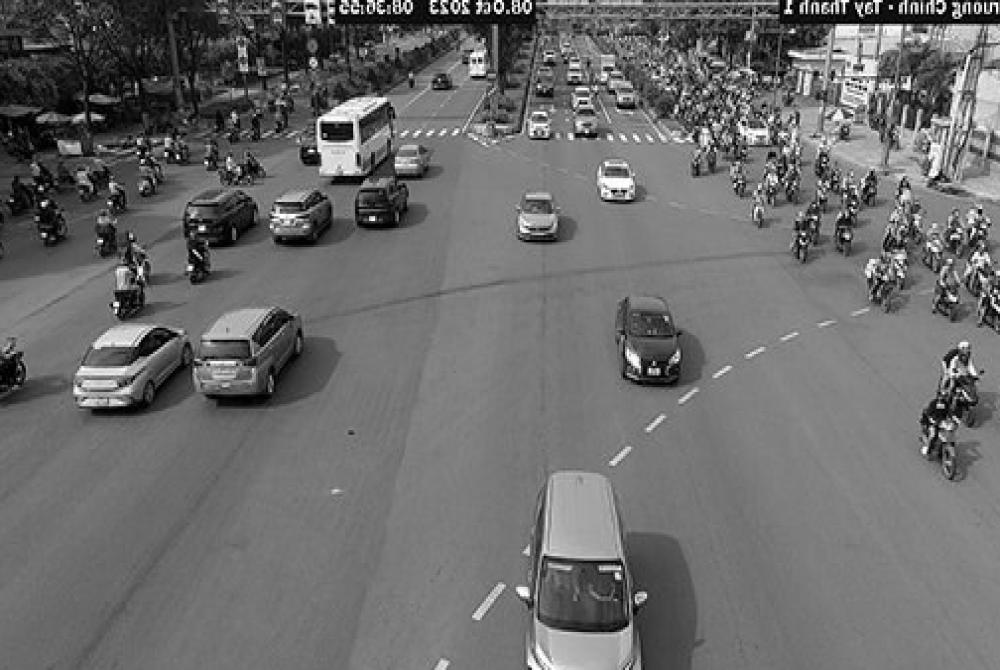bus: (314, 96, 395, 184)
car: (522, 468, 641, 670), (193, 306, 305, 403), (70, 324, 190, 410), (619, 298, 681, 386), (180, 186, 256, 248), (268, 190, 339, 247), (351, 176, 409, 229), (513, 189, 560, 243), (594, 157, 638, 204), (391, 140, 432, 178)
motorbike: (931, 418, 961, 480)
